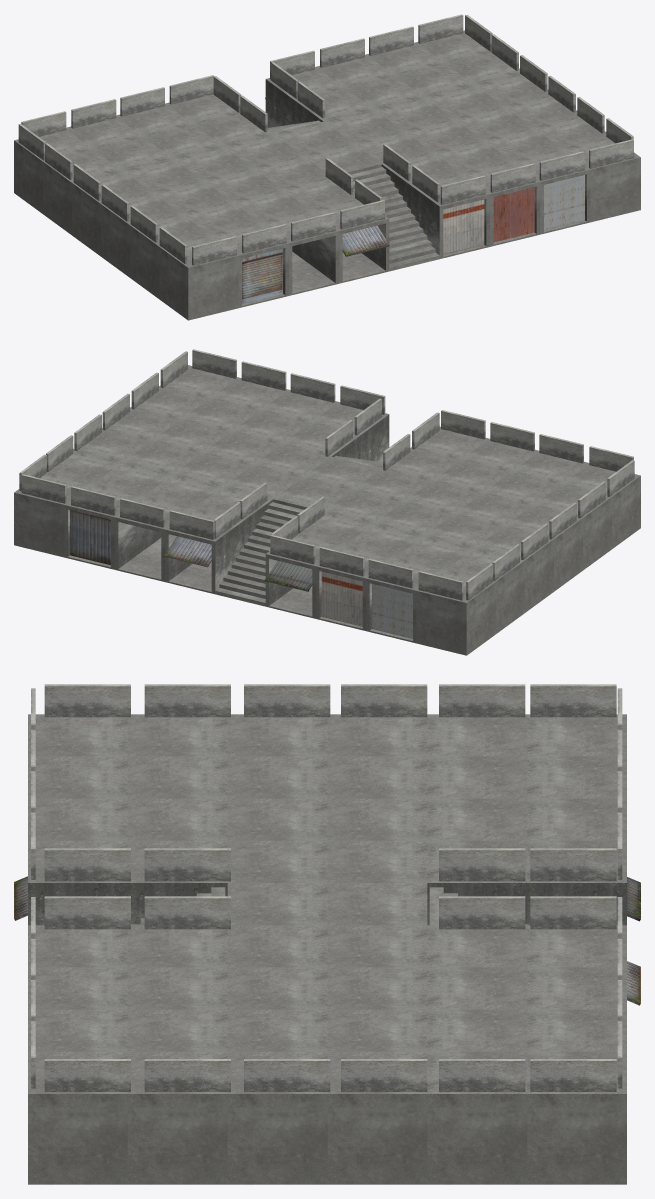
File: Marketplace.fbx
The picture shows the model from 3 angles, top to bottom: view 1: azimuth 30°, elevation 25°; view 2: azimuth 150°, elevation 25°; view 3: azimuth 270°, elevation 25°; orthographic projection. The views are drawn at different scales.
Visible parts, largest first — view 1: Marketplace; view 2: Marketplace; view 3: Marketplace.
Boxes of the visible parts, x1=… form: Marketplace: x1=14, y1=14, x2=640, y2=320; Marketplace: x1=14, y1=349, x2=640, y2=655; Marketplace: x1=14, y1=684, x2=640, y2=1184.
Bounding box in the file's own units: 2970 × 443 × 2072.
